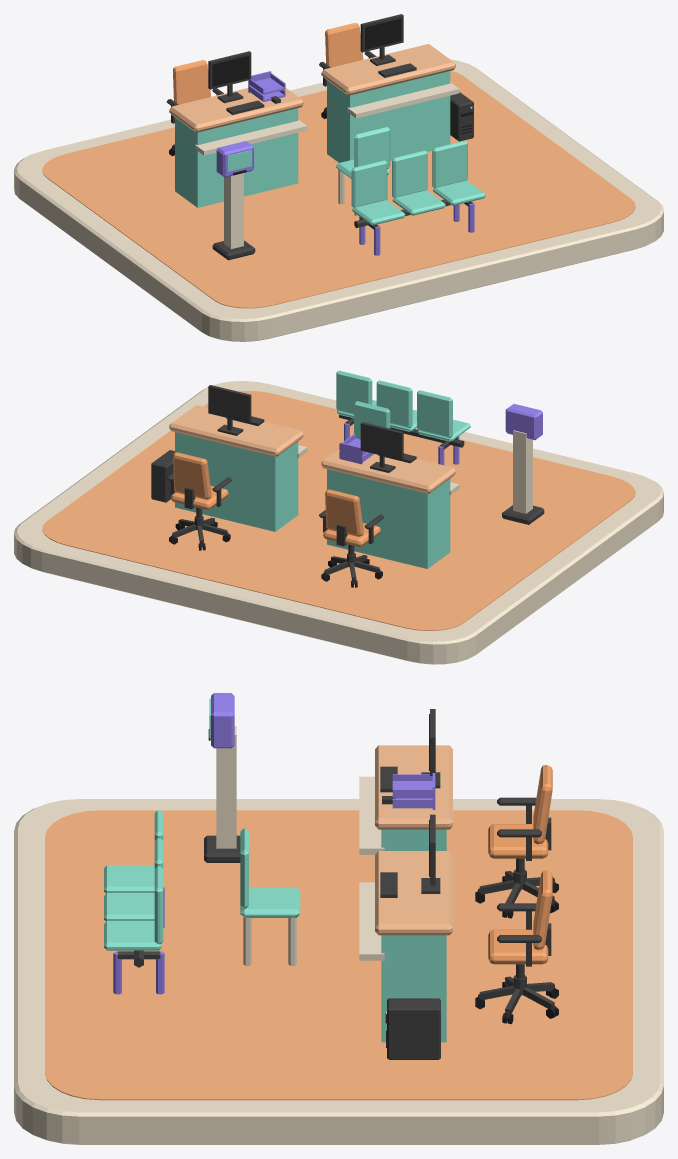
3 renders of one model, top to bottom at view 1: azimuth 30°, elevation 25°; view 2: azimuth 150°, elevation 25°; view 3: azimuth 270°, elevation 25°, orthographic. The views are drawn at different scales.
Visible parts, largest first — view 1: COM-02 Floor Surface, COM-01 Rounded Base Direct, Counter body.001, Counter body, Countertop.001, Countertop, COM-04_Chair_blender_direct, COM-04_Chair_blender_direct.001, Frame.001, Frame, Back, Back.001 (+11 smaller); view 2: COM-02 Floor Surface, COM-01 Rounded Base Direct, Counter body.001, Counter body, COM-04_Chair_blender_direct.001, COM-04_Chair_blender_direct, Countertop.001, Countertop, Pedestal, Frame.001, Frame, Back (+6 smaller); view 3: COM-02 Floor Surface, COM-01 Rounded Base Direct, Countertop.001, COM-04_Chair_blender_direct.001, COM-04_Chair_blender_direct, Counter body.001, Countertop, Tower, Pedestal, Seat.003, Seat.002, Visitor shelf.001 (+9 smaller).
Part boxes in pixels (x1=…): COM-02 Floor Surface: x1=42, y1=71, x2=635, y2=308; COM-01 Rounded Base Direct: x1=14, y1=59, x2=663, y2=341; Counter body.001: x1=327, y1=71, x2=450, y2=162; Counter body: x1=175, y1=108, x2=298, y2=207; Countertop.001: x1=321, y1=44, x2=455, y2=95; Countertop: x1=169, y1=88, x2=303, y2=132; COM-04_Chair_blender_direct: x1=166, y1=60, x2=223, y2=156; COM-04_Chair_blender_direct.001: x1=319, y1=23, x2=376, y2=118; Frame.001: x1=360, y1=14, x2=403, y2=65; Frame: x1=208, y1=51, x2=251, y2=103; Back: x1=351, y1=160, x2=387, y2=207; Back.001: x1=392, y1=150, x2=427, y2=197; COM-02 Floor Surface: x1=42, y1=391, x2=635, y2=630; COM-01 Rounded Base Direct: x1=14, y1=381, x2=663, y2=664; Counter body.001: x1=175, y1=432, x2=298, y2=531; Counter body: x1=327, y1=469, x2=450, y2=568; COM-04_Chair_blender_direct.001: x1=166, y1=452, x2=231, y2=550; COM-04_Chair_blender_direct: x1=319, y1=489, x2=384, y2=587; Countertop.001: x1=169, y1=405, x2=303, y2=456; Countertop: x1=321, y1=449, x2=455, y2=493; Pedestal: x1=513, y1=430, x2=532, y2=513; Frame.001: x1=208, y1=385, x2=251, y2=435; Frame: x1=360, y1=422, x2=403, y2=472; Back: x1=417, y1=390, x2=452, y2=437; COM-02 Floor Surface: x1=45, y1=810, x2=632, y2=1100; COM-01 Rounded Base Direct: x1=14, y1=799, x2=663, y2=1144; Countertop.001: x1=375, y1=851, x2=452, y2=935; COM-04_Chair_blender_direct.001: x1=475, y1=870, x2=558, y2=1024; COM-04_Chair_blender_direct: x1=475, y1=765, x2=558, y2=918; Counter body.001: x1=381, y1=935, x2=446, y2=1042; Countertop: x1=375, y1=745, x2=452, y2=829; Tower: x1=387, y1=998, x2=440, y2=1059; Pedestal: x1=216, y1=726, x2=236, y2=848; Seat.003: x1=240, y1=887, x2=300, y2=917; Seat.002: x1=104, y1=921, x2=161, y2=950; Visitor shelf.001: x1=359, y1=882, x2=384, y2=960.
Size of the model in its own units: 6 by 1.87 by 5.2.
1 material, 1 textured.
